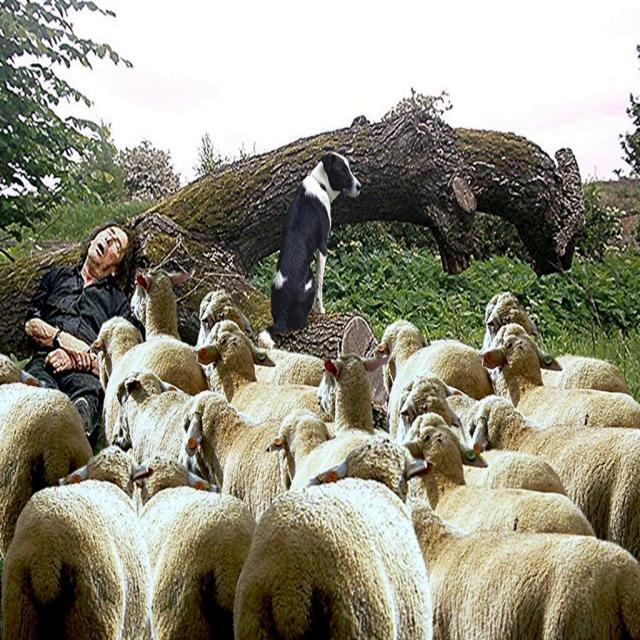sheep: (0, 483, 142, 639)
